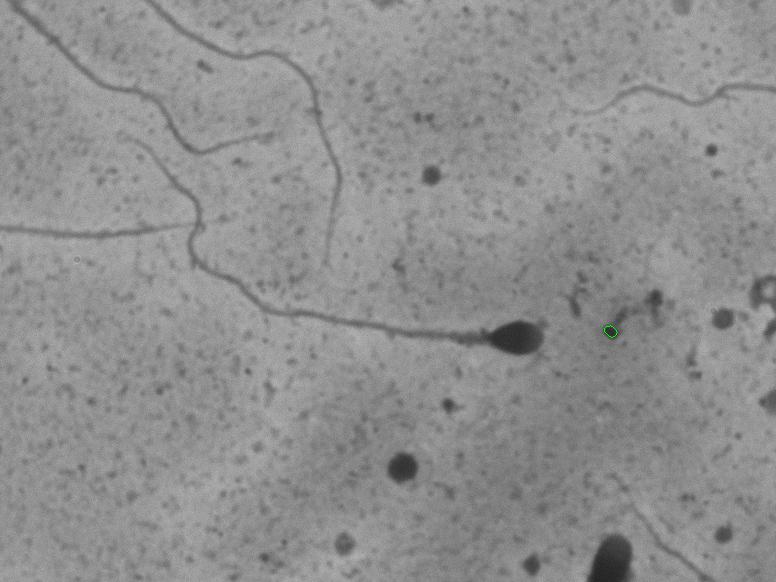Normal: (115, 136, 560, 380)
